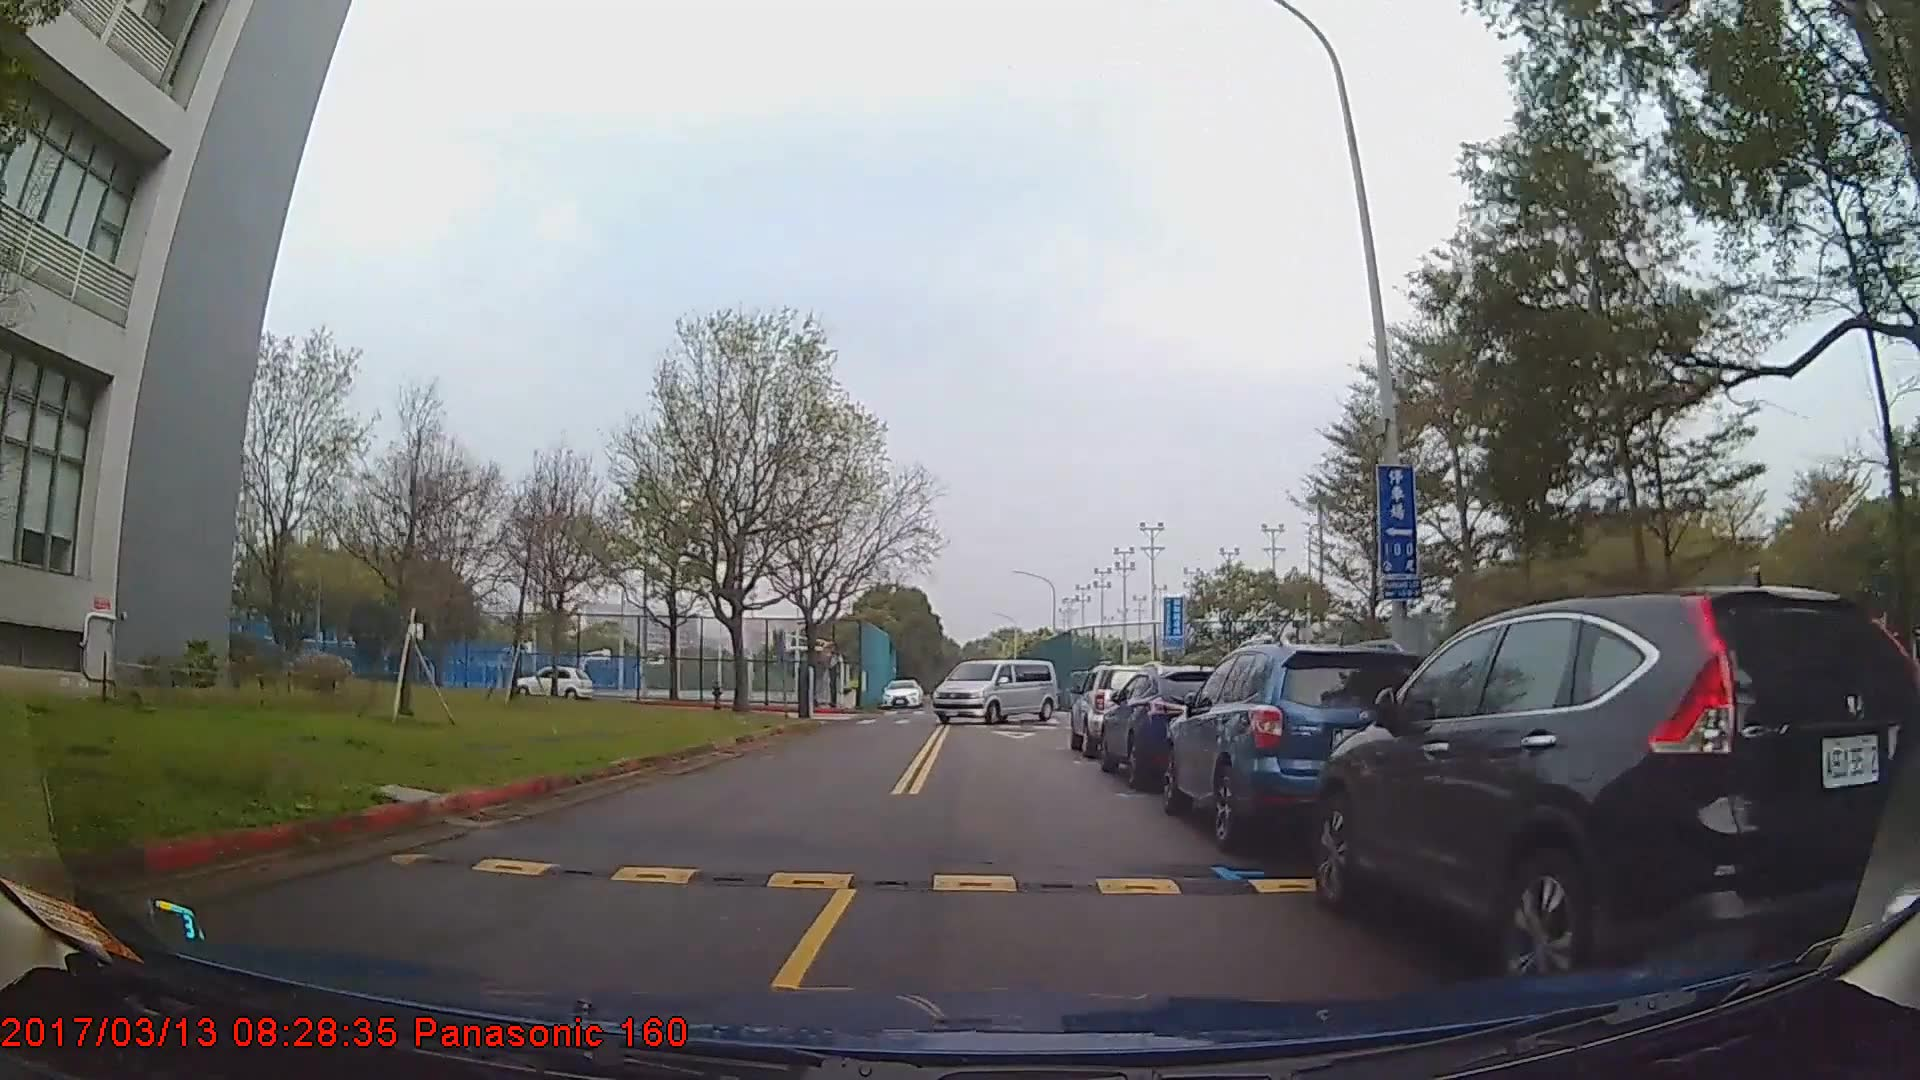vehicle: (1309, 583, 1920, 1000), (1159, 644, 1432, 847), (1098, 662, 1244, 787), (931, 657, 1060, 727), (1069, 663, 1160, 757), (516, 663, 593, 702), (880, 678, 923, 709)
